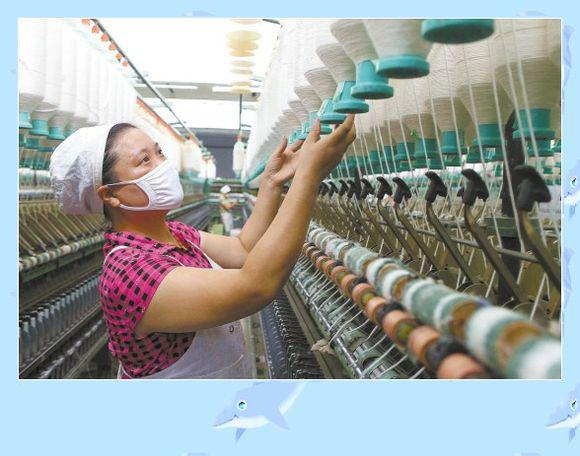OK: (116, 139, 185, 216)
